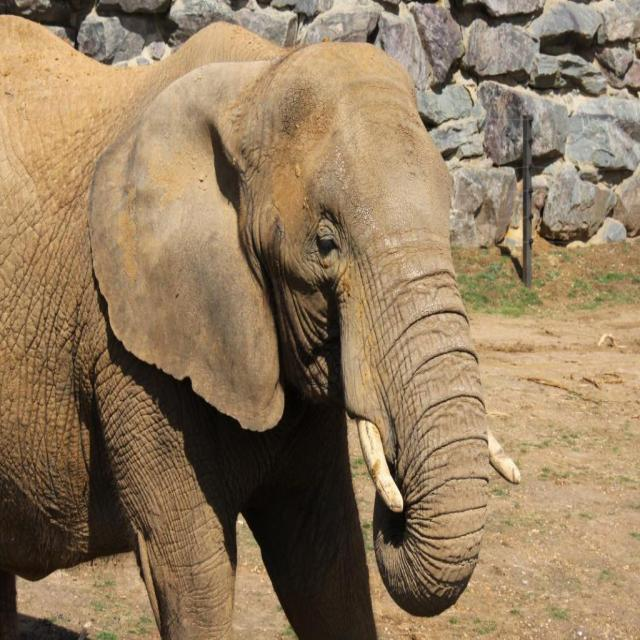Elephant: (0, 15, 521, 639)
